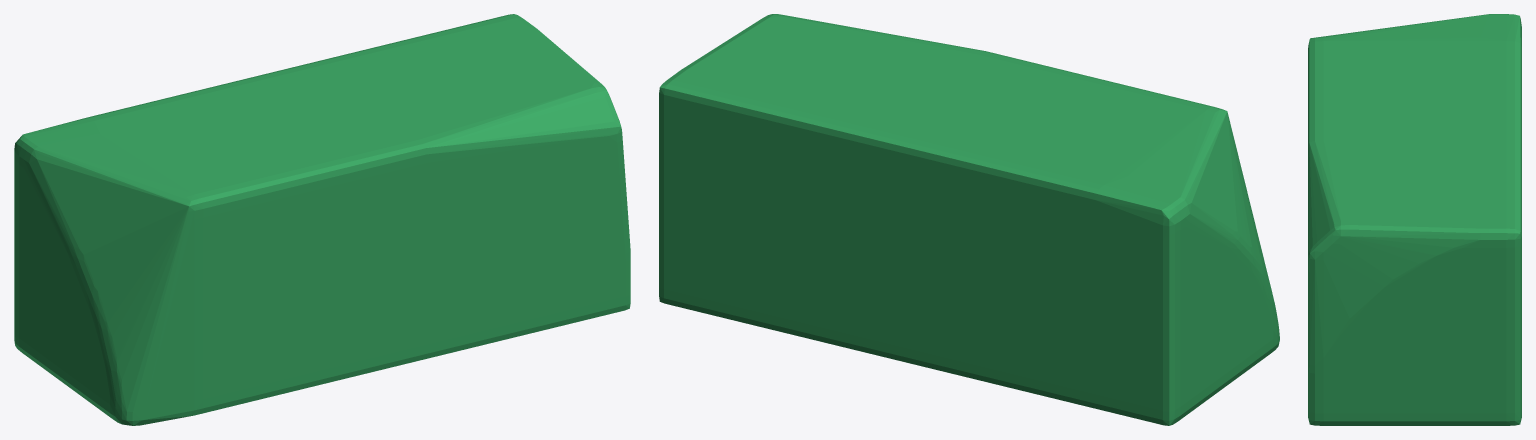
File: right_shoulder_pitch_link_part_10.obj
3 views of the same model, side by side, from view 1: azimuth 30°, elevation 25°; view 2: azimuth 150°, elevation 25°; view 3: azimuth 270°, elevation 25° (orthographic). The views are drawn at different scales.
Bounding box in the file's own units: 0.0673 × 0.0274 × 0.0271.
